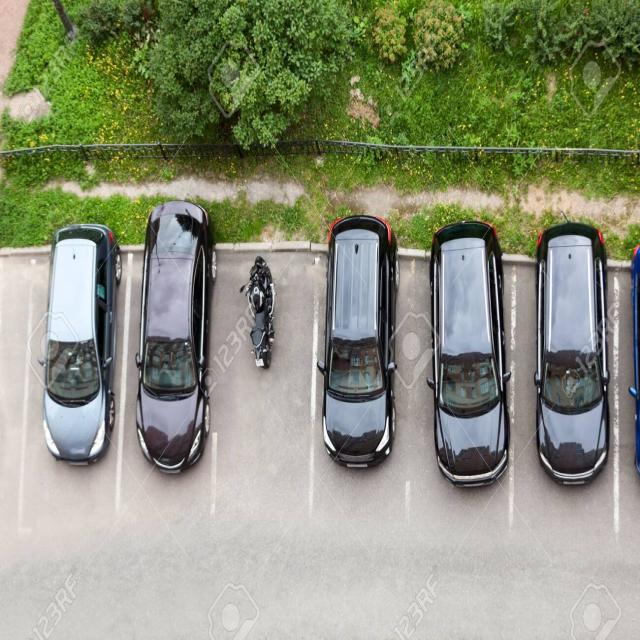libre: (0, 259, 36, 547)
ocupado: (317, 210, 618, 513), (41, 204, 217, 494), (221, 229, 313, 500), (617, 215, 640, 514)
